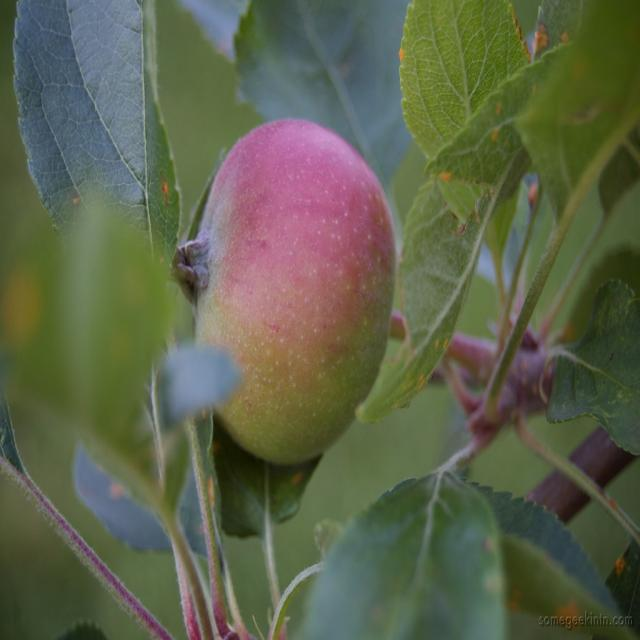Healty Apple: (164, 115, 408, 462)
